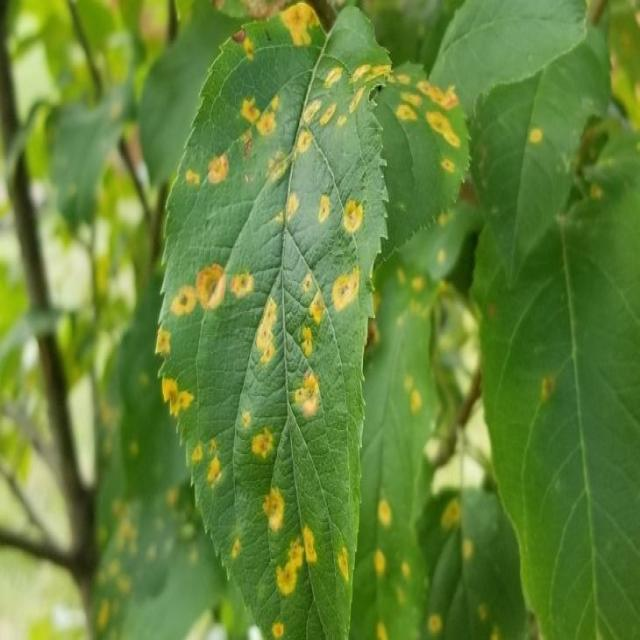Gymnosporangium_Rusts: (152, 3, 472, 636)
